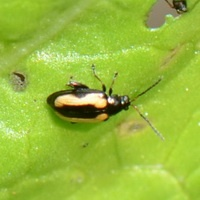insect: (47, 64, 163, 139), (165, 0, 186, 13)
